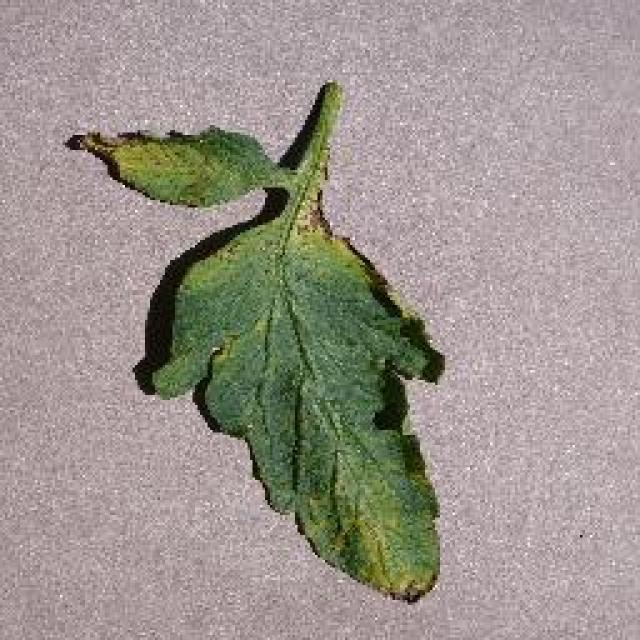Tomato___Septoria_leaf_spot: (78, 82, 440, 598)
